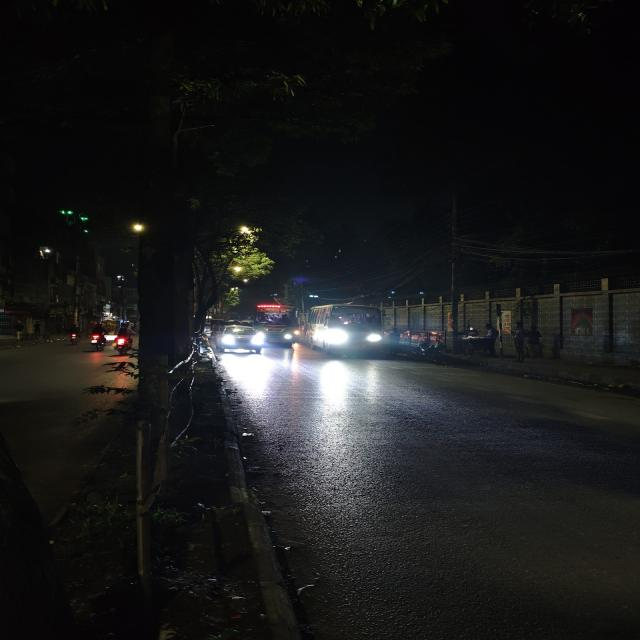bus: (312, 304, 388, 359), (258, 302, 304, 349)
car: (220, 320, 262, 356)
motorcycle: (411, 334, 449, 367), (106, 318, 136, 356), (82, 321, 108, 354)
pedestrian: (508, 318, 529, 366), (484, 322, 501, 356), (387, 326, 403, 356)
